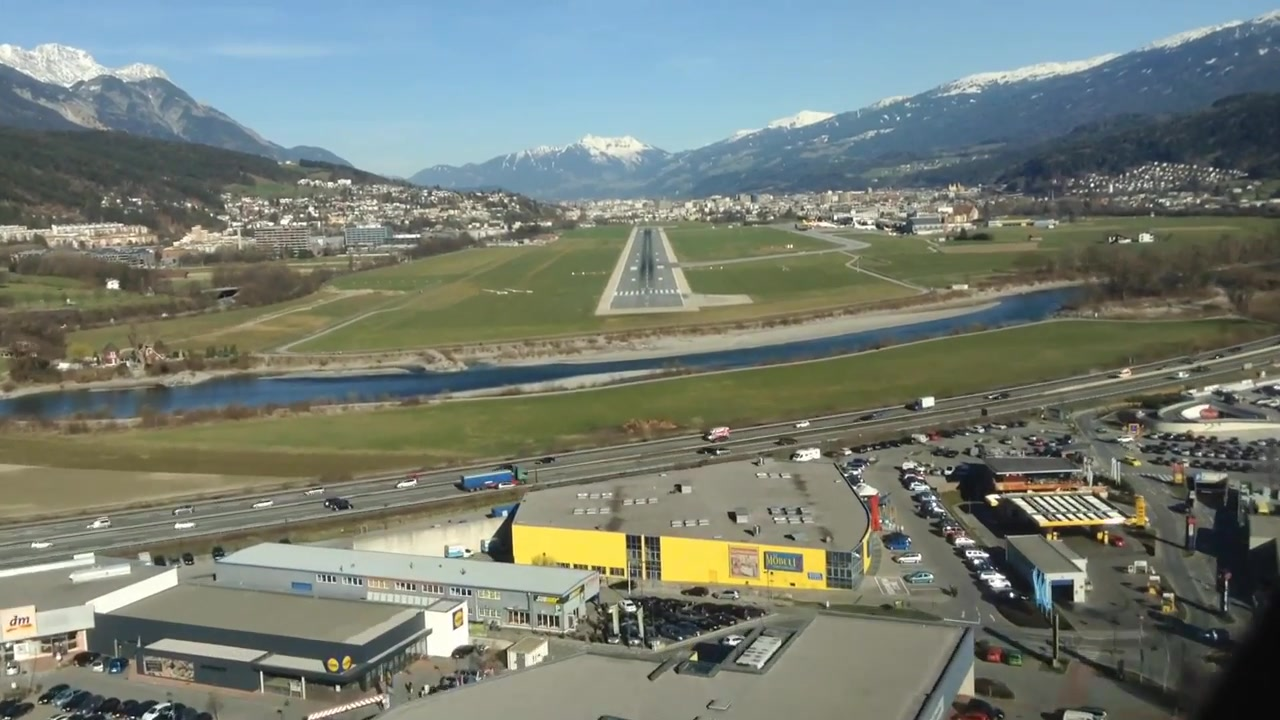entrance: (613, 288, 681, 297)
runway: (610, 228, 686, 309)
